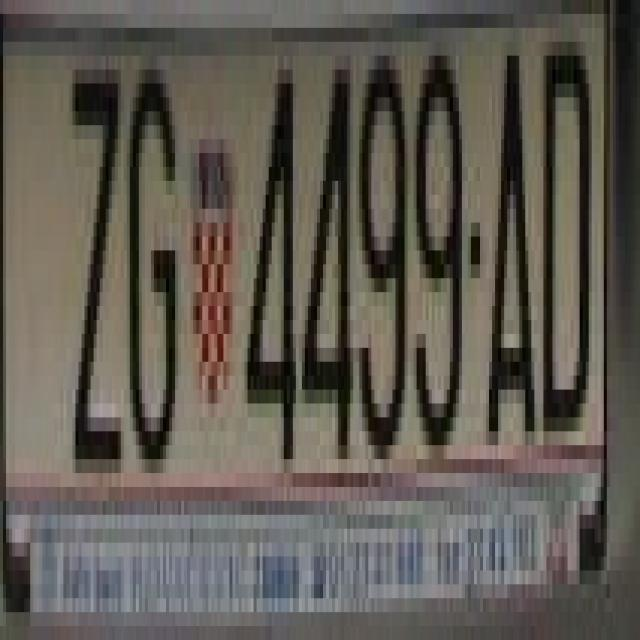4: (247, 70, 299, 431), (308, 42, 353, 431)
9: (359, 42, 402, 431), (413, 56, 456, 417)
A: (489, 56, 537, 417)
D: (540, 42, 589, 431)
G: (130, 70, 181, 487)
Z: (78, 84, 121, 473)
